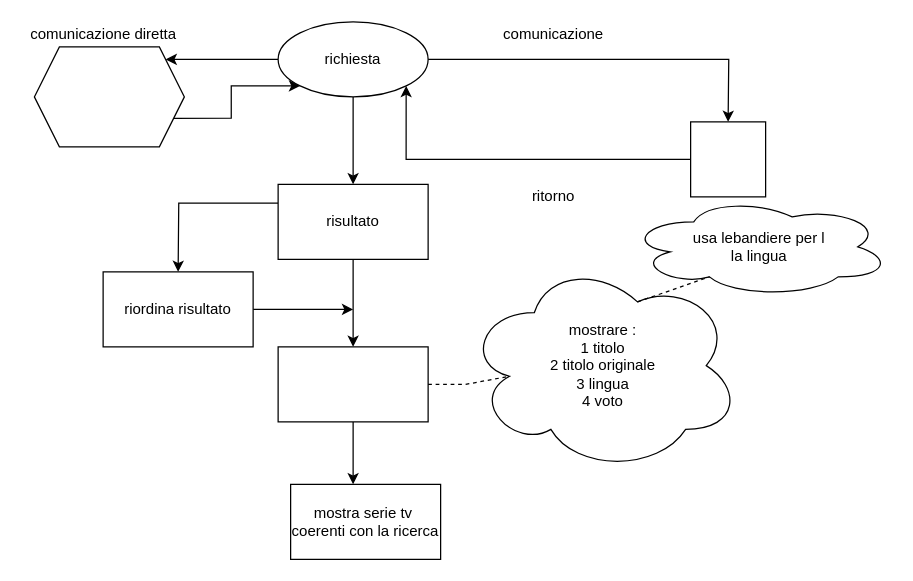
This 913x581 diagram has some shape labels left out. Each missing label, with the box of its shape:
api: (689, 121, 766, 197)
mostra su schermo: (277, 346, 428, 422)
richiesta utente: (33, 46, 184, 147)
